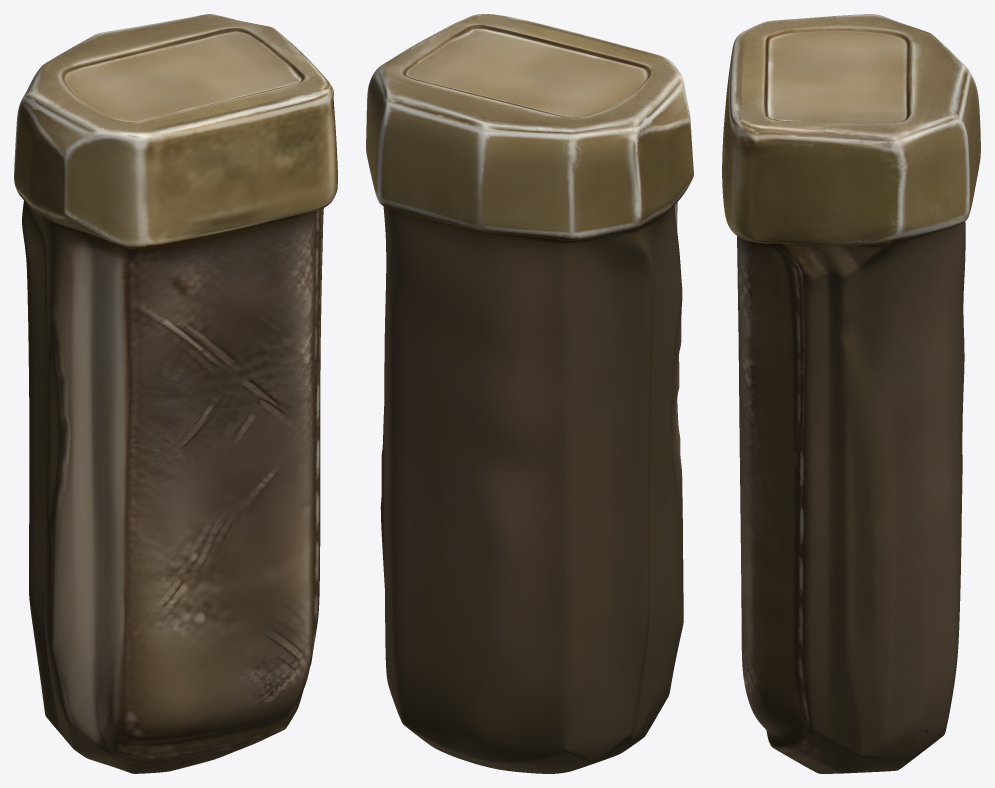
File: TallSleeve.glb
3 views of the same model, side by side, from view 1: azimuth 30°, elevation 25°; view 2: azimuth 150°, elevation 25°; view 3: azimuth 270°, elevation 25° (orthographic).
Parts seen in each view (by area): view 1: node_0; view 2: node_0; view 3: node_0.
Part boxes in pixels (x1=…): node_0: x1=14, y1=14, x2=337, y2=773; node_0: x1=366, y1=14, x2=693, y2=773; node_0: x1=722, y1=14, x2=980, y2=773.
Bounding box in the file's own units: 0.4801 × 1.11 × 0.386.
Materials: 1 (1 with a texture image).
